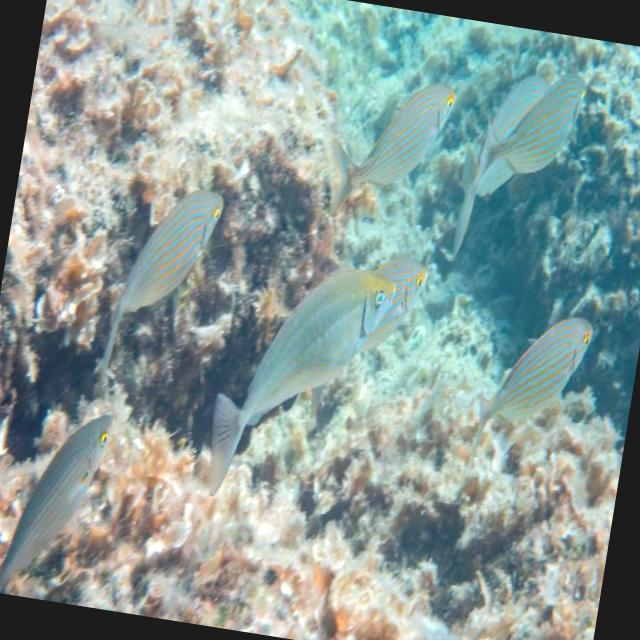Sokar Baligi: (88, 158, 235, 404), (313, 40, 472, 252), (454, 286, 604, 484), (0, 384, 124, 607)
